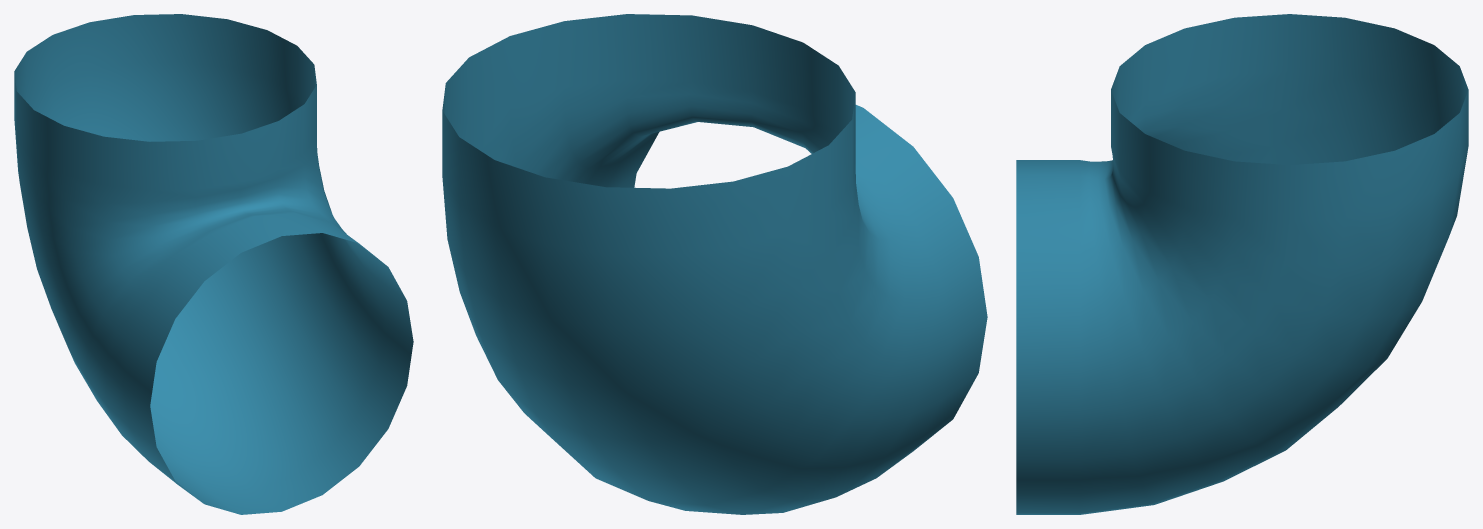
The model's file is SM_Pipes_CurveUp.fbx.
3 views of the same model, side by side, from view 1: azimuth 30°, elevation 25°; view 2: azimuth 150°, elevation 25°; view 3: azimuth 270°, elevation 25° (orthographic). The views are drawn at different scales.
Visible parts, largest first — view 1: SM_Pipes_CurveUp; view 2: SM_Pipes_CurveUp; view 3: SM_Pipes_CurveUp.
Boxes of the visible parts, x1=… form: SM_Pipes_CurveUp: x1=14, y1=14, x2=413, y2=514; SM_Pipes_CurveUp: x1=442, y1=14, x2=987, y2=514; SM_Pipes_CurveUp: x1=1016, y1=14, x2=1468, y2=514.
Size of the model in its own units: 327 by 413 by 413.
